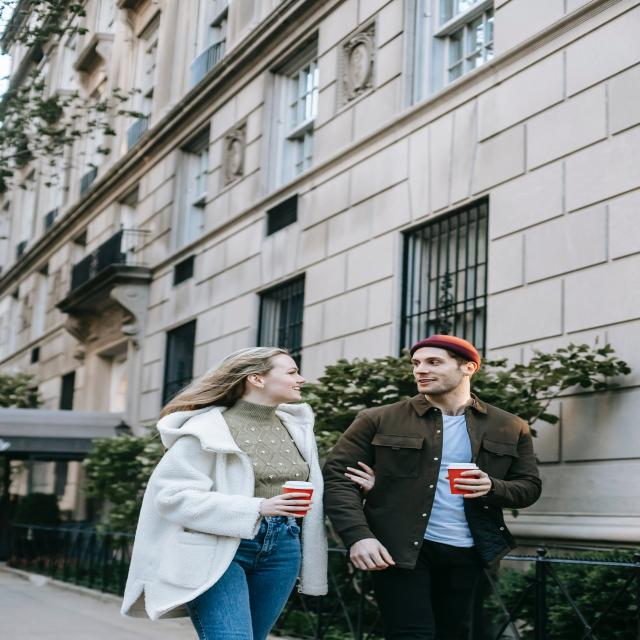cup: (281, 481, 316, 515), (445, 462, 479, 494)
